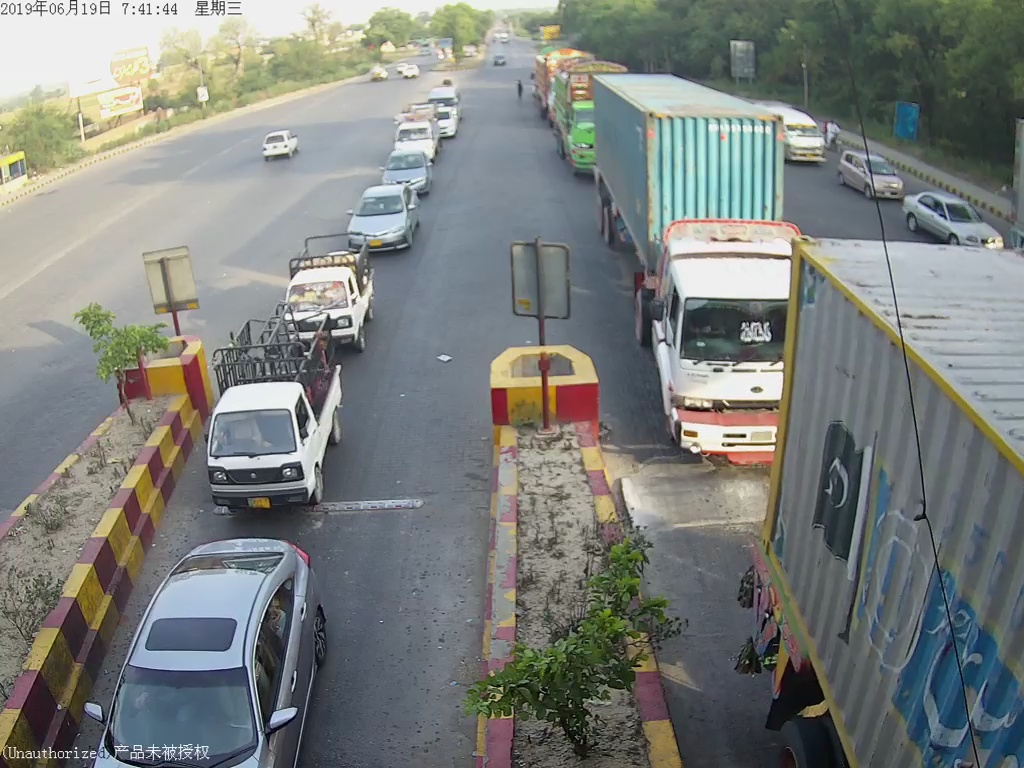Cat-1: (199, 334, 346, 507), (285, 246, 370, 327)
Cat-5: (604, 86, 784, 468)
